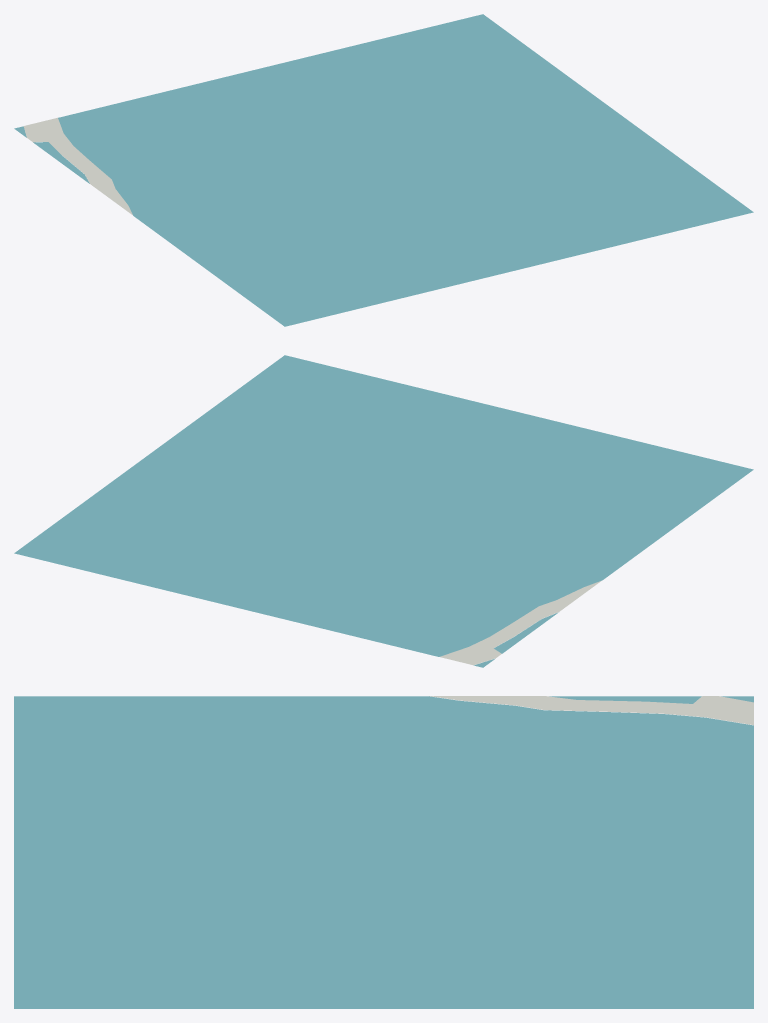
3 renders of one model, top to bottom at view 1: azimuth 30°, elevation 25°; view 2: azimuth 150°, elevation 25°; view 3: azimuth 270°, elevation 25°, orthographic. The views are drawn at different scales.
Visible parts, largest first — view 1: city; view 2: city; view 3: city.
Part boxes in pixels (x1,y1,x2,y2): city: (14,14,753,326); city: (14,355,753,667); city: (14,696,753,1008).
Size of the model in its own units: 500 by 0.18 by 500.
